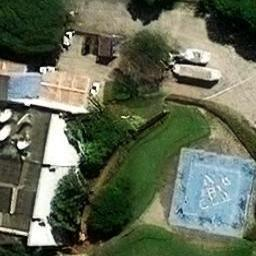heliponto: (184, 163, 240, 225)
